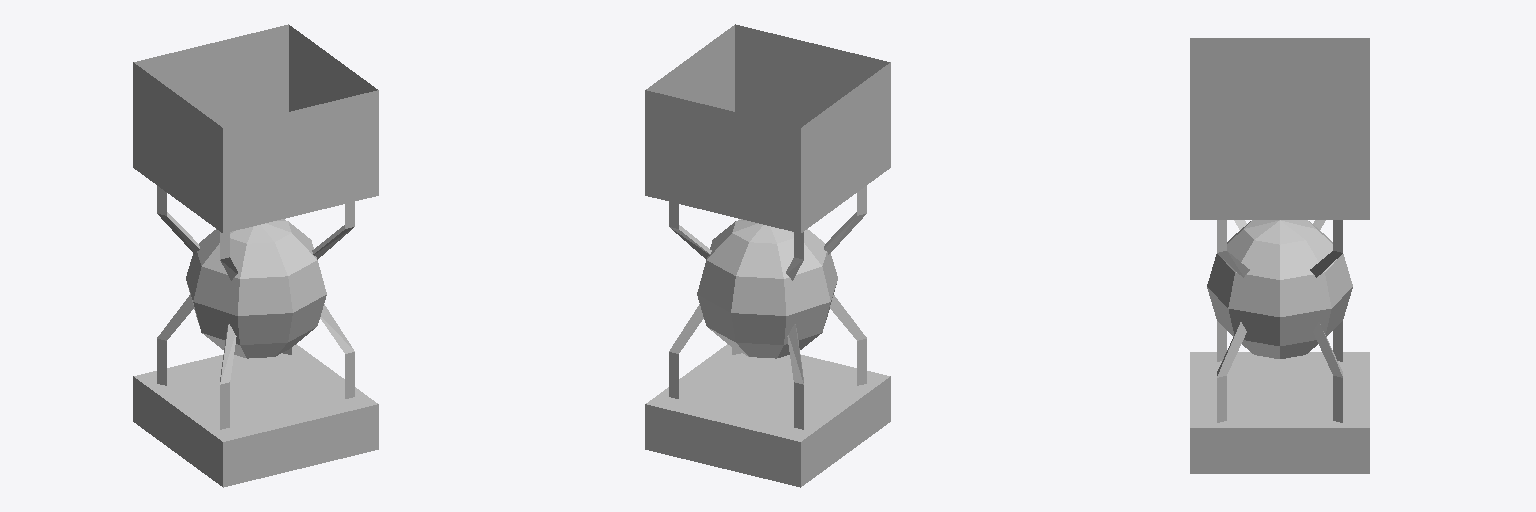
The model's file is reactor.obj.
The picture shows the model from 3 angles: view 1: azimuth 30°, elevation 25°; view 2: azimuth 150°, elevation 25°; view 3: azimuth 270°, elevation 25°; orthographic projection.
Size of the model in its own units: 4 by 8.84 by 4.